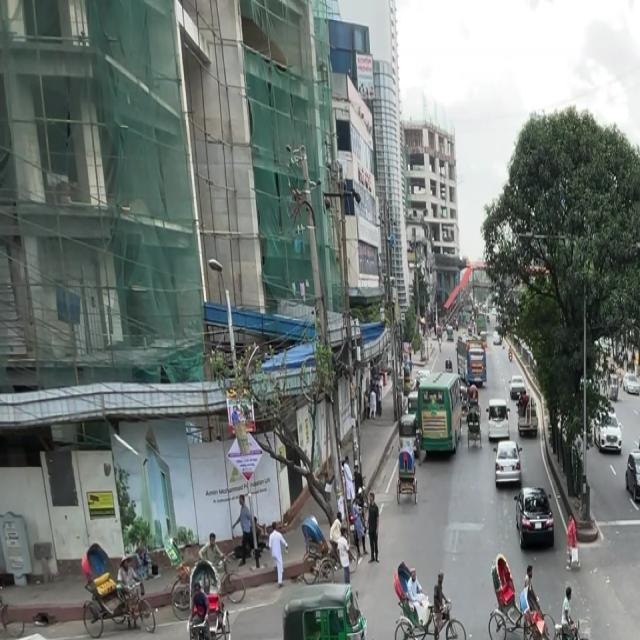car: (512, 474, 561, 558), (489, 434, 525, 495), (590, 412, 627, 458), (512, 382, 538, 426), (622, 446, 640, 509), (484, 387, 510, 428)
rickshaw: (277, 577, 377, 640)
